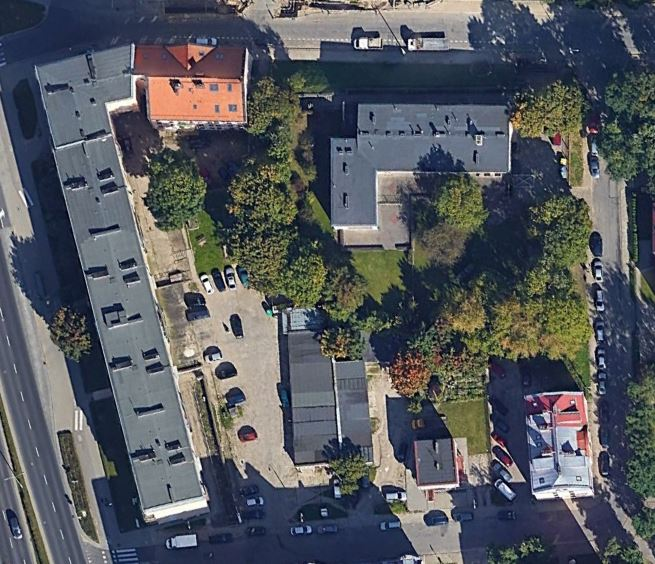block of flats: (23, 41, 255, 531), (325, 94, 520, 237), (522, 387, 596, 503), (411, 433, 461, 494)
garage: (280, 296, 378, 471)
